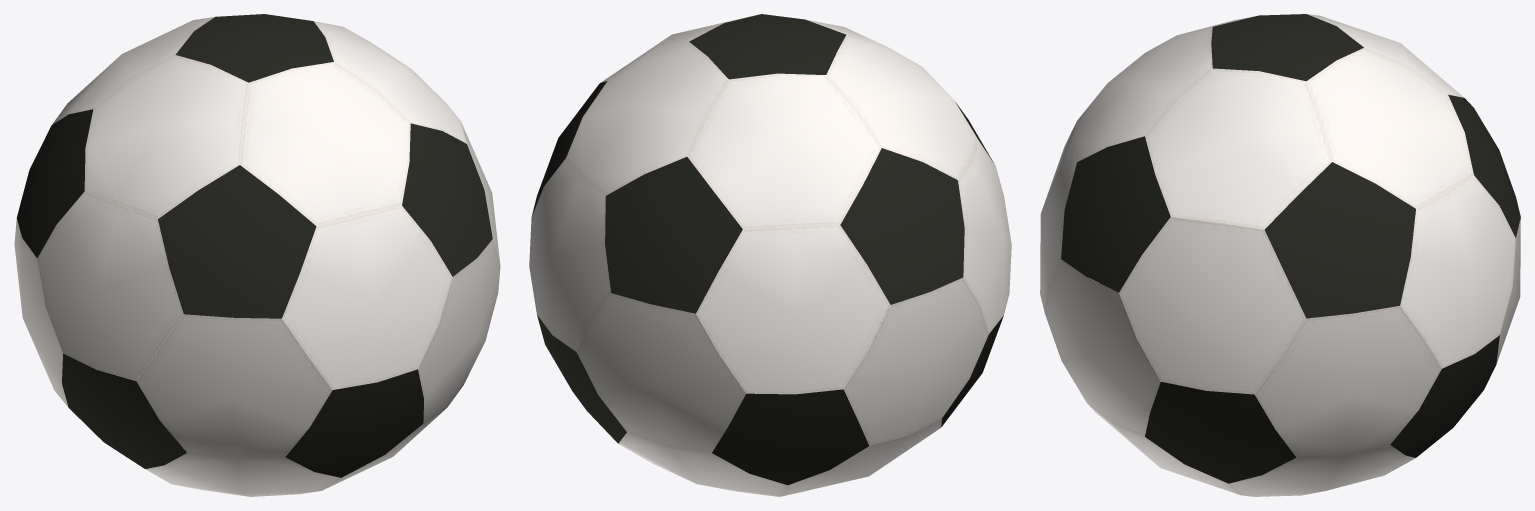
Rendered from FootballSoccer.DAE.
3 views of the same model, side by side, from view 1: azimuth 30°, elevation 25°; view 2: azimuth 150°, elevation 25°; view 3: azimuth 270°, elevation 25° (orthographic).
Parts seen in each view (by area): view 1: Mesh_FootballSoccer; view 2: Mesh_FootballSoccer; view 3: Mesh_FootballSoccer.
Boxes of the visible parts, x1=… form: Mesh_FootballSoccer: x1=14, y1=14, x2=500, y2=496; Mesh_FootballSoccer: x1=529, y1=14, x2=1011, y2=496; Mesh_FootballSoccer: x1=1040, y1=14, x2=1520, y2=496.
Size of the model in its own units: 4.8 by 4.72 by 4.8.
1 material, 1 textured.
